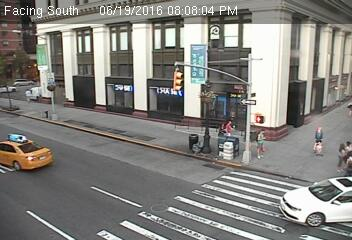neg: (26, 46, 58, 89), (123, 105, 149, 139), (16, 124, 39, 155), (246, 26, 267, 54), (114, 17, 134, 44), (67, 138, 86, 164), (335, 61, 351, 87), (145, 156, 162, 179), (297, 179, 313, 200), (172, 16, 183, 32)
pos: (332, 136, 351, 174), (250, 128, 273, 159), (306, 125, 329, 155), (215, 120, 230, 140), (223, 117, 236, 136)
